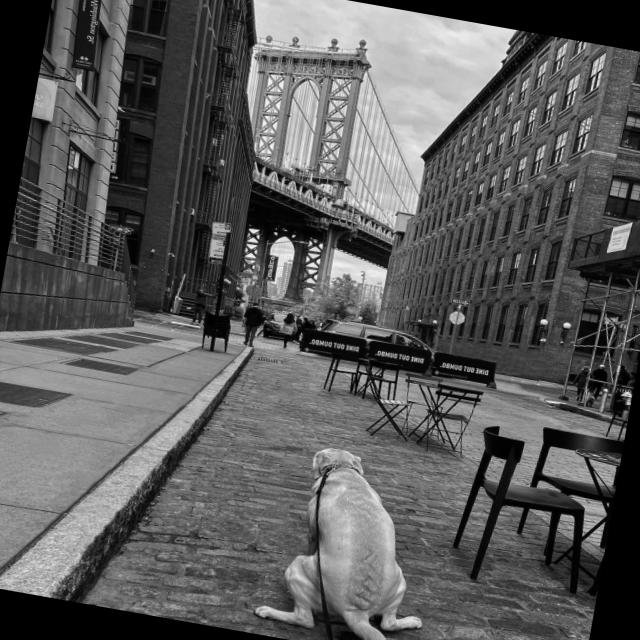squatting: (246, 433, 450, 640)
